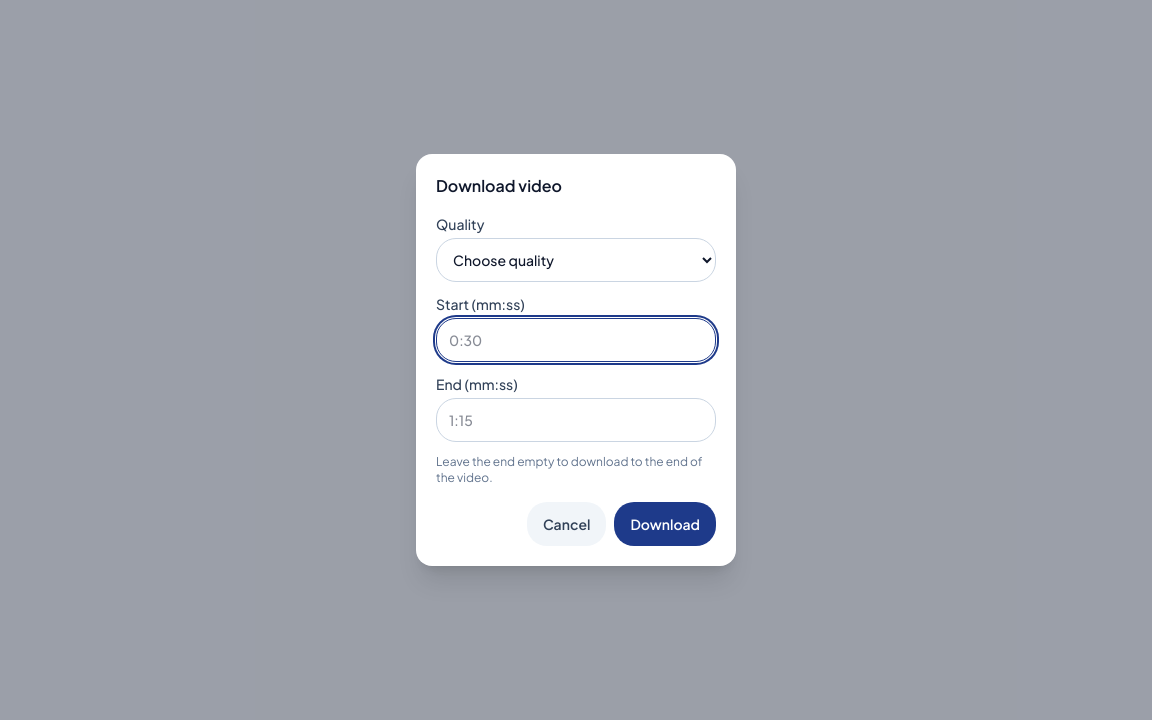
Test case: VideoDownloadDialog › refuses an end that does not come after the start
This screenshot has width=1152, height=720.
Step 1. Type "1:00" into the field labelled "Start (mm:ss)" → [576, 340], box [436,318,716,362]
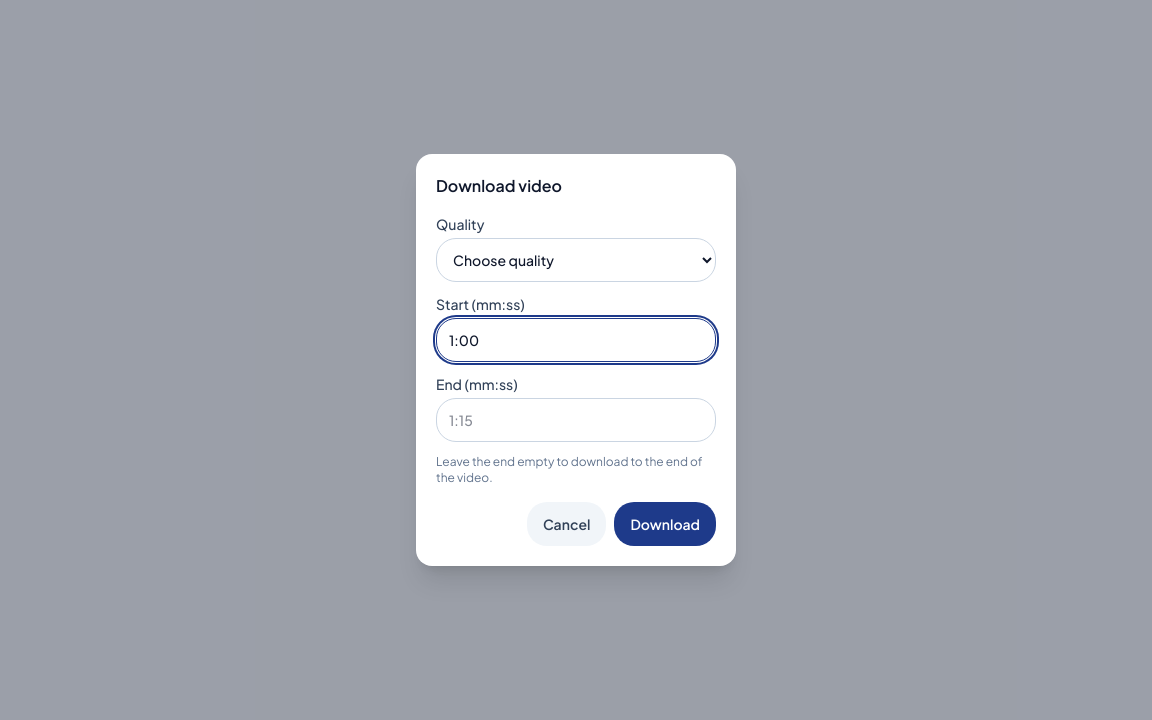
Step 2. Type "0:30" into the field labelled "End (mm:ss)" → [576, 420], box [436,398,716,442]
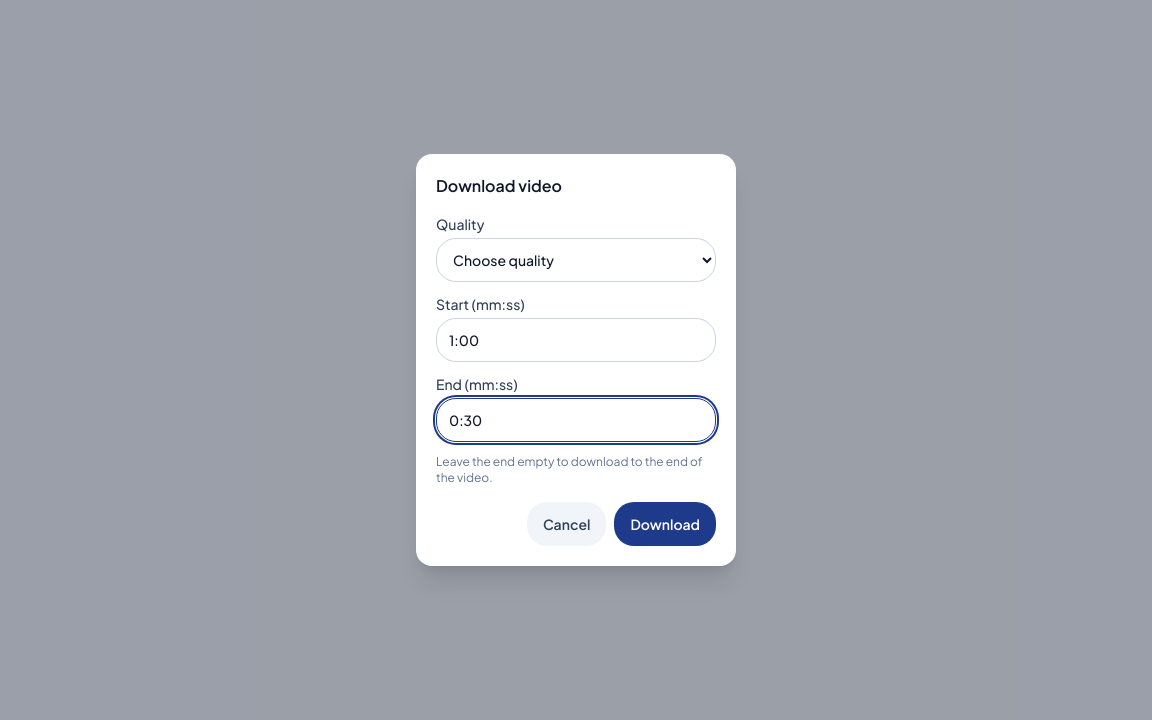
Step 3. Click the button "Download" → [665, 524], box [614,502,716,546]
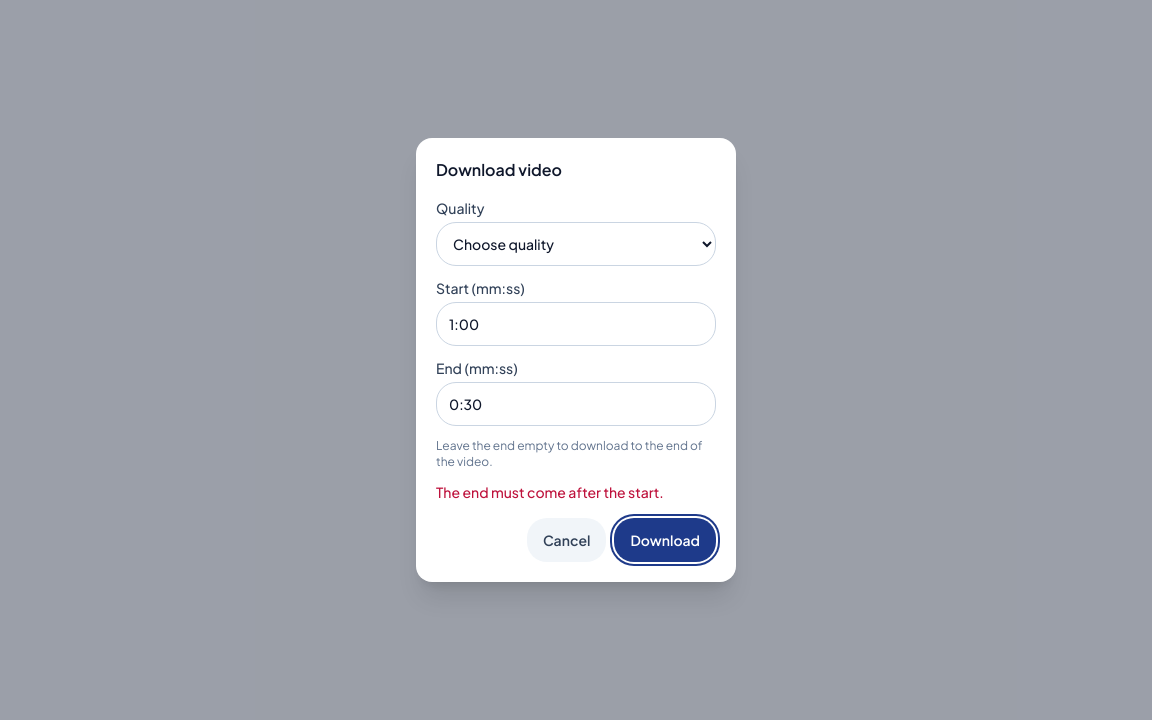
Expected: the message reads "The end must come after the start.", [436,483,664,501]
